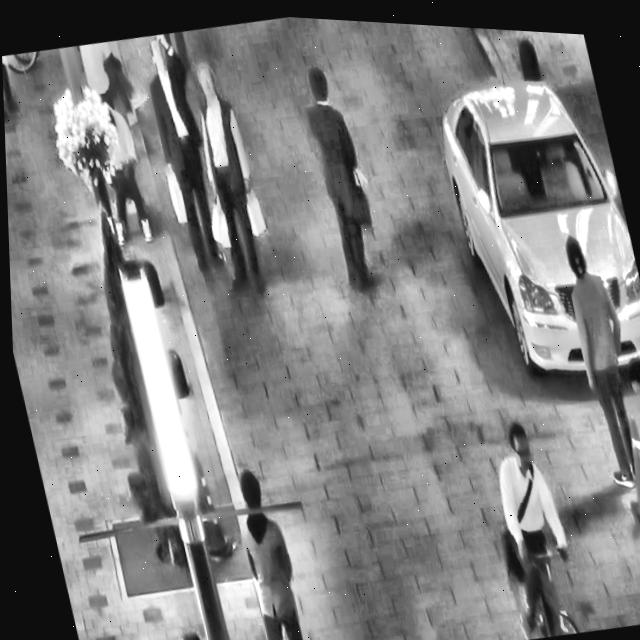light_vehicle: (418, 36, 640, 394)
